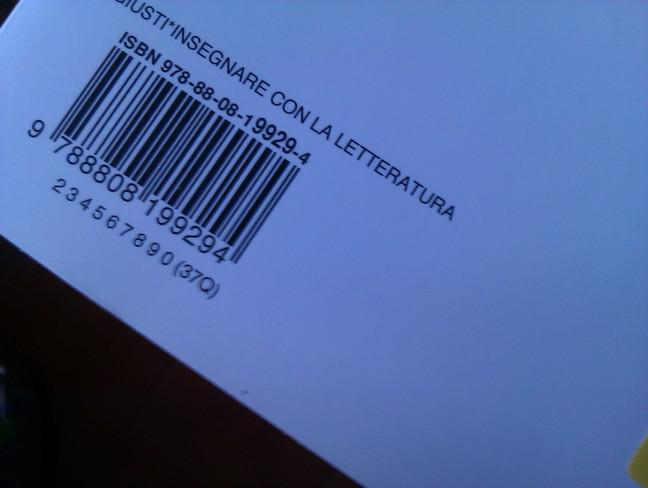Barkod: (12, 28, 310, 277)
